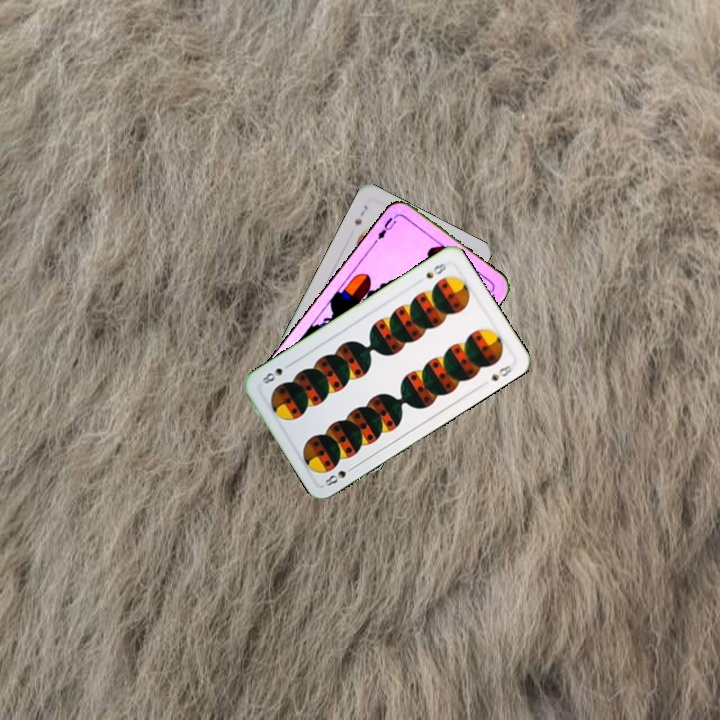EU: (373, 211, 400, 242)
S7: (350, 201, 370, 228)
S8: (320, 460, 358, 489), (422, 259, 449, 281)
